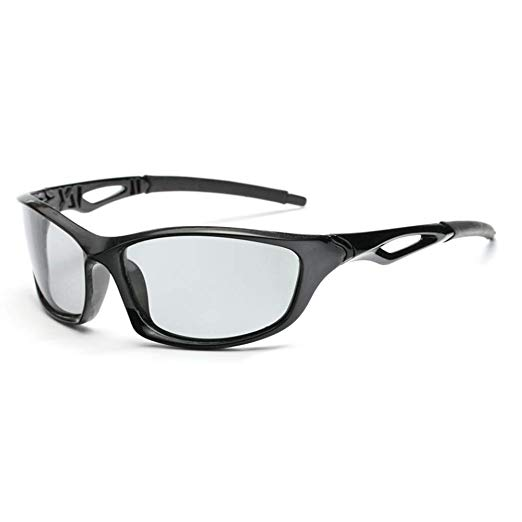sunglasses: (12, 168, 468, 362)
